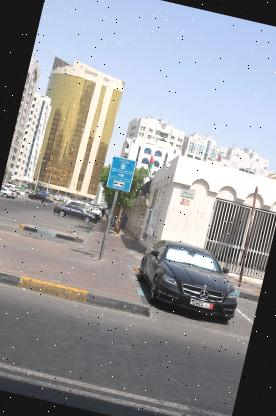car: (123, 229, 256, 336)
